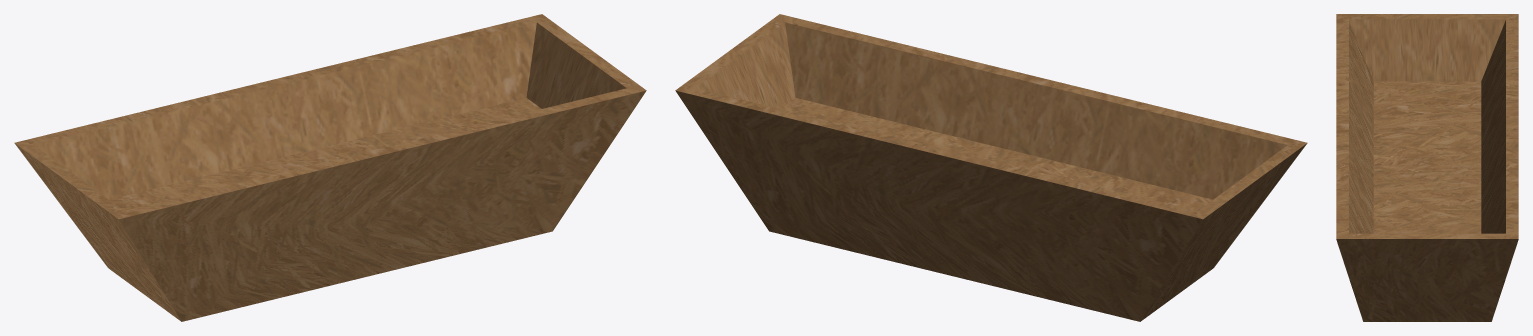
Rendered from FoodBins.fbx.
3 views of the same model, side by side, from view 1: azimuth 30°, elevation 25°; view 2: azimuth 150°, elevation 25°; view 3: azimuth 270°, elevation 25° (orthographic). The views are drawn at different scales.
Visible parts, largest first — view 1: Cube; view 2: Cube; view 3: Cube.
Part boxes in pixels (x1,y1,x2,y2): Cube: [14, 14, 646, 321]; Cube: [675, 14, 1307, 321]; Cube: [1336, 14, 1518, 321].
Size of the model in its own units: 830 by 200 by 285.
Materials: 1 (1 with a texture image).
